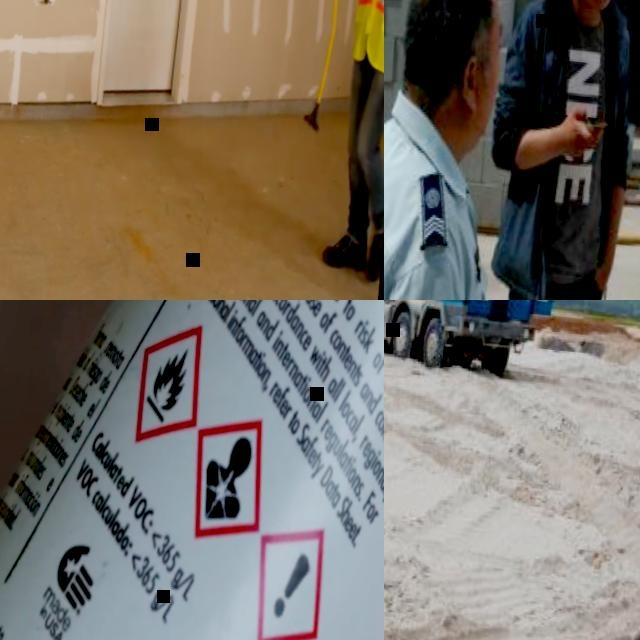NO-Hardhat: (399, 0, 506, 56)
NO-Mask: (454, 57, 499, 152)
NO-Safety Vest: (500, 0, 629, 290), (384, 122, 512, 300)
Person: (460, 0, 640, 300), (384, 0, 536, 300), (285, 0, 384, 282)
Safety Vest: (337, 0, 384, 43)
